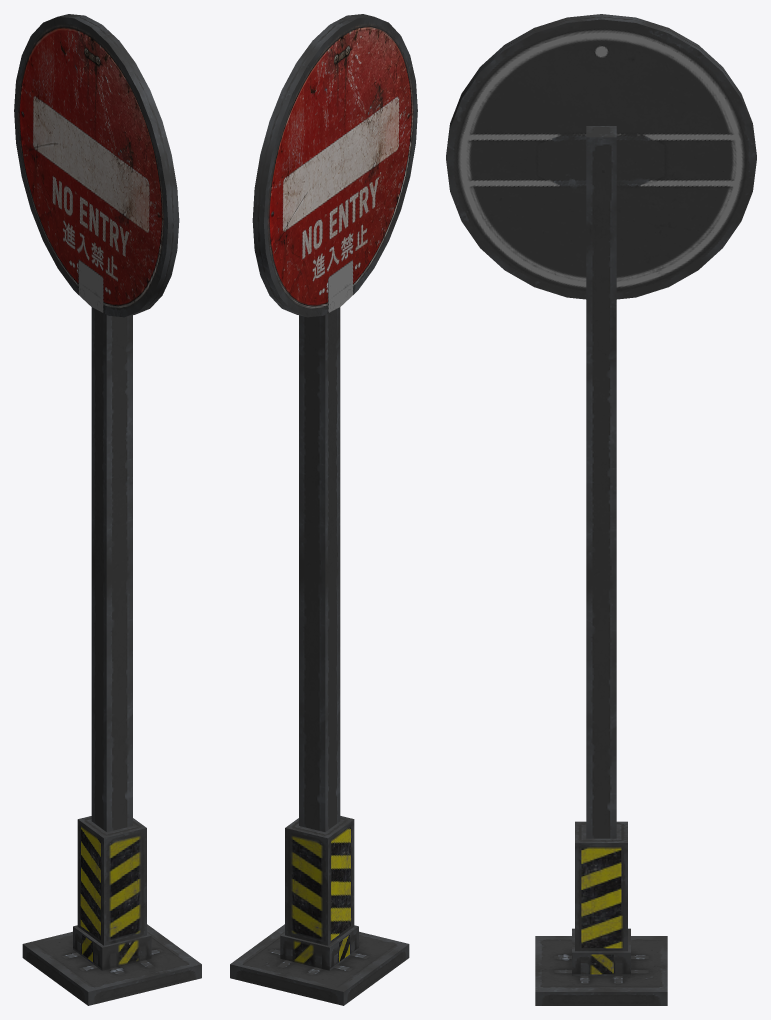
The model's file is CP_Road_Sign_No_Entry.fbx.
The picture shows the model from 3 angles, left to right: view 1: azimuth 30°, elevation 25°; view 2: azimuth 150°, elevation 25°; view 3: azimuth 270°, elevation 25°; orthographic projection.
Parts seen in each view (by area): view 1: CP_Road_Sign_No_Entry; view 2: CP_Road_Sign_No_Entry; view 3: CP_Road_Sign_No_Entry.
Boxes of the visible parts, x1,y1,x2,y2 form: CP_Road_Sign_No_Entry: (14,14,201,1005); CP_Road_Sign_No_Entry: (230,14,417,1005); CP_Road_Sign_No_Entry: (446,14,756,1005).
Bounding box in the file's own units: 34.27 × 273 × 80.49.
